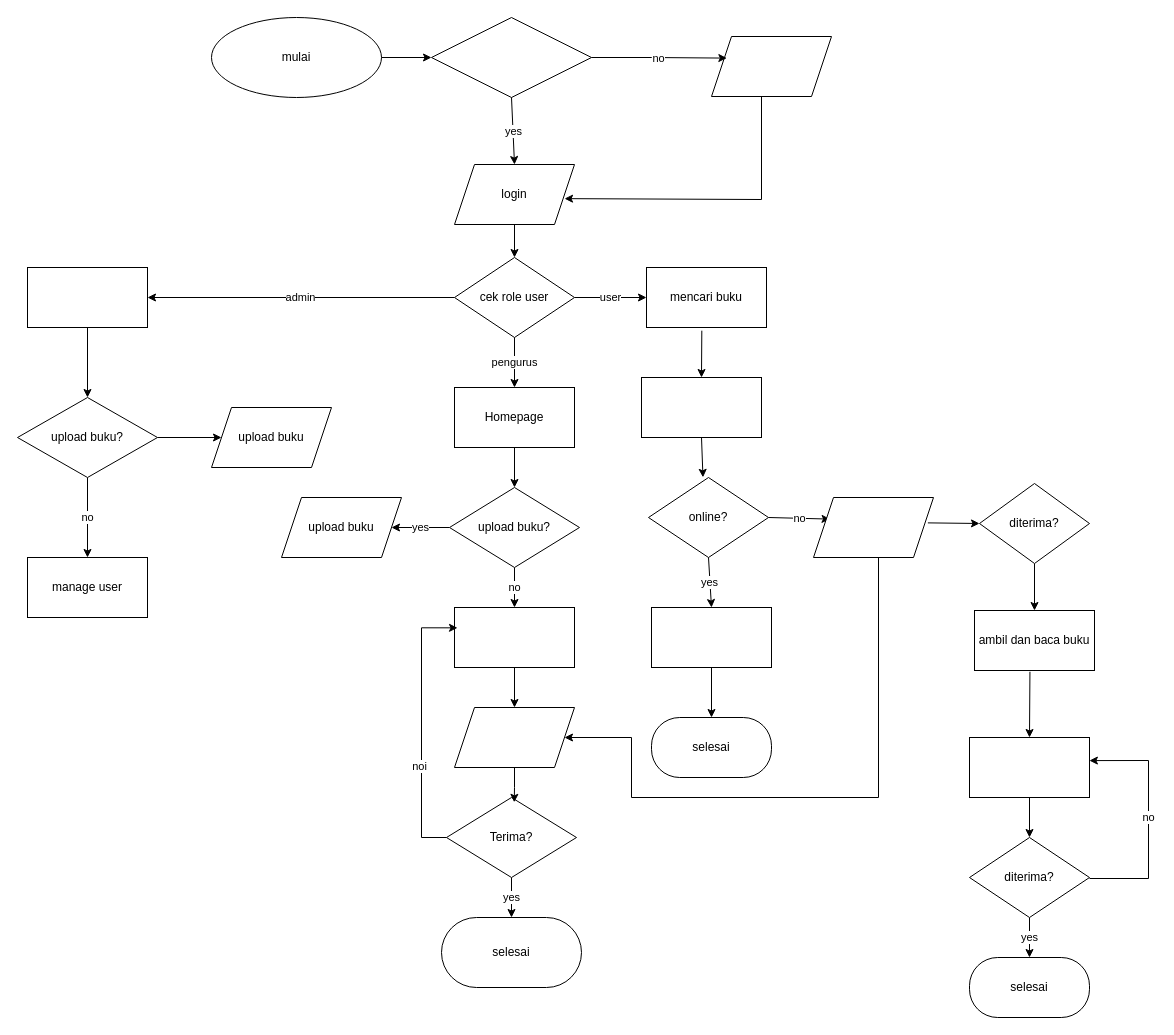
Some shapes in this 1174 by 1035 pixel diagram are drawn without their labels. The shapes that lost their labels are listed below. From the top down, each one's box as (x1, y1, x2, y2) in pixels, then its label:
(430, 16, 592, 98): Terdaftar?
(710, 36, 832, 96): register
(26, 266, 148, 328): Halaman admin
(640, 376, 762, 438): baca buku
(812, 496, 934, 558): pengajuan
(454, 606, 574, 668): urus pengajuan
(650, 606, 772, 668): isi buku
(454, 706, 574, 768): pengajuan masuk
(968, 736, 1090, 798): kembalikan
